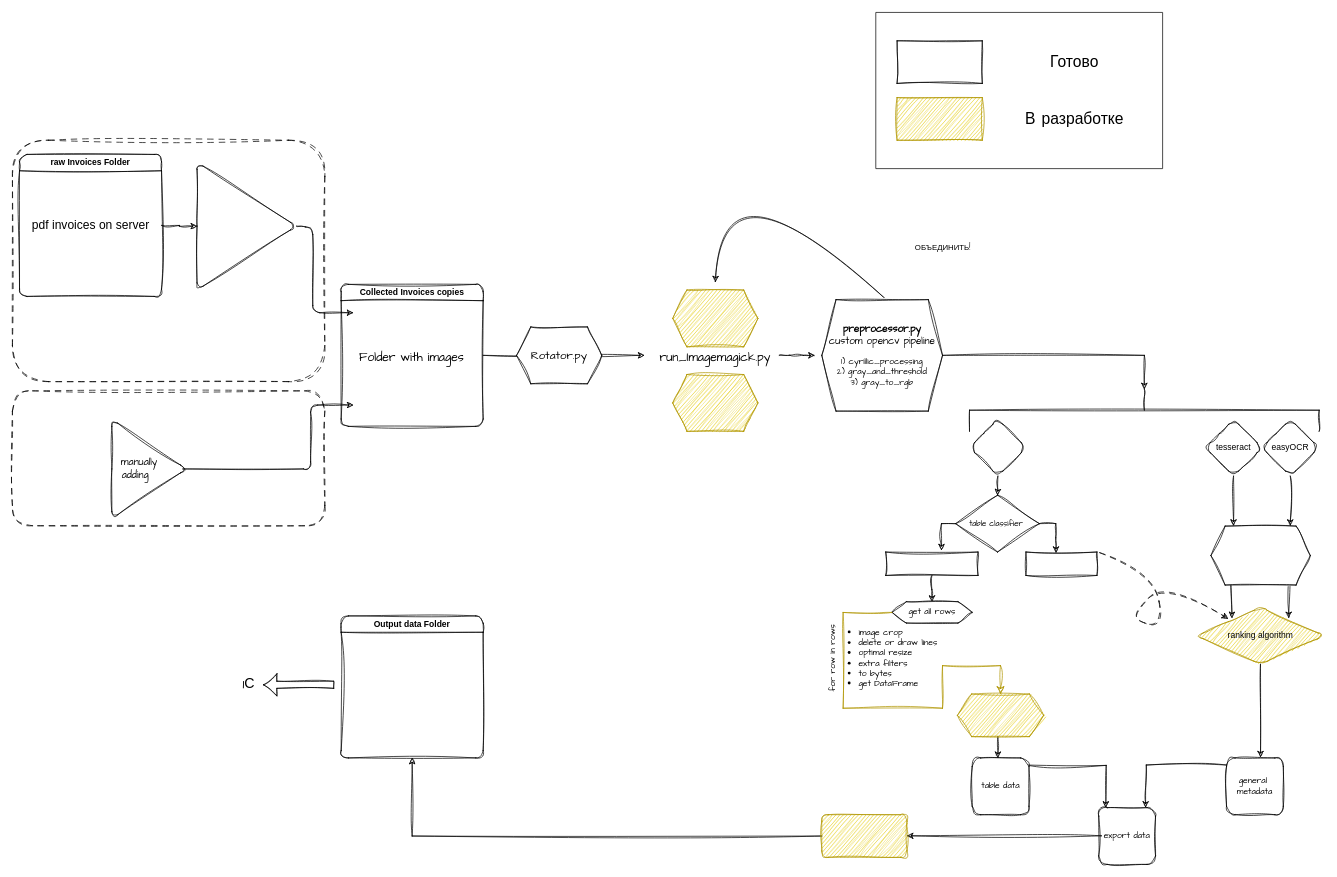
The diagram is 1337 pixels wide and 877 high, and some of its shapes have lost their labels. The shapes that lost their labels are listed below. From the top down, each one's centre as x and y in pixels, then its label:
At point (246, 226): "Invoice_scanner python script pasrser + pdf >> jpg".
At point (997, 447): "table extracror".
At point (931, 563): "shipment table".
At point (1061, 563): "title table".
At point (1260, 555): "postprocessor custom regular expressions pipeline (regexes.py)".
At point (1000, 715): "table data postprocessor".
At point (864, 835): "json packing".
